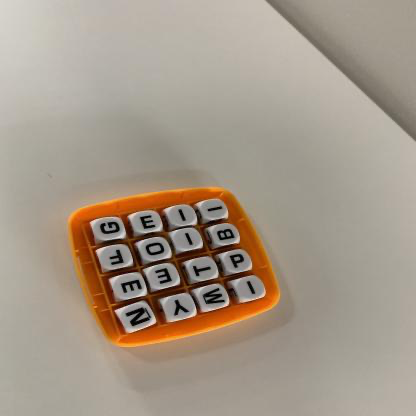b: (212, 224, 240, 246)
e: (114, 274, 147, 300), (149, 265, 181, 290), (132, 211, 164, 234)
f: (101, 246, 133, 270)
g: (94, 218, 125, 241)
i: (236, 277, 267, 301), (174, 229, 204, 251), (169, 206, 197, 227), (201, 199, 228, 220)
n: (120, 304, 155, 330)
o: (141, 239, 172, 262)
p: (223, 250, 253, 274)
t: (187, 258, 219, 282)
w: (198, 286, 230, 311)
y: (164, 295, 197, 321)
